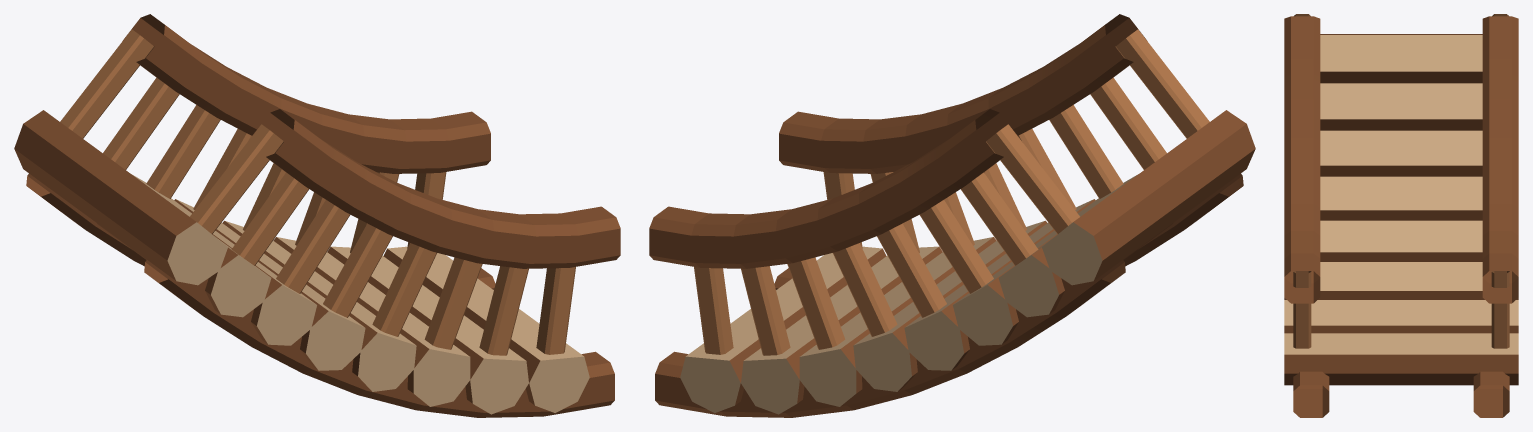
Rendered from Track_Bridge_Incline_Flat_Sharp_Floating.obj.
The picture shows the model from 3 angles, left to right: view 1: azimuth 30°, elevation 25°; view 2: azimuth 150°, elevation 25°; view 3: azimuth 270°, elevation 25°; orthographic projection. The views are drawn at different scales.
Parts seen in each view (by area): view 1: Bridge_Rail, Bridge_Rail_Support, Log_Plank_End, Log_Plank_Bark, Bridge_Support_Beam, Log_Plank_Top; view 2: Bridge_Rail, Bridge_Rail_Support, Log_Plank_End, Log_Plank_Bark, Bridge_Support_Beam, Log_Plank_Top; view 3: Log_Plank_Top, Bridge_Rail, Log_Plank_Bark, Bridge_Support_Beam, Bridge_Rail_Support.
Part boxes in pixels (<box>): Bridge_Rail: <box>123,14,620,268</box>; Bridge_Rail_Support: <box>60,29,575,355</box>; Log_Plank_End: <box>167,222,589,414</box>; Log_Plank_Bark: <box>14,110,540,405</box>; Bridge_Support_Beam: <box>26,173,614,417</box>; Log_Plank_Top: <box>131,174,583,360</box>; Bridge_Rail: <box>649,14,1146,268</box>; Bridge_Rail_Support: <box>694,29,1209,355</box>; Log_Plank_End: <box>680,222,1102,414</box>; Log_Plank_Bark: <box>729,110,1255,405</box>; Bridge_Support_Beam: <box>655,173,1243,417</box>; Log_Plank_Top: <box>686,174,1138,360</box>; Log_Plank_Top: <box>1284,35,1518,354</box>; Bridge_Rail: <box>1284,16,1518,303</box>; Log_Plank_Bark: <box>1284,34,1518,385</box>; Bridge_Support_Beam: <box>1293,371,1509,417</box>; Bridge_Rail_Support: <box>1293,14,1509,348</box>.
Bounding box in the file's own units: 2.22 × 1.72 × 1.3.
